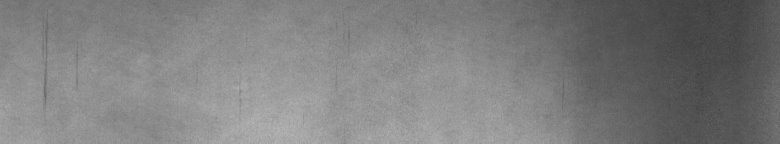ka: (41, 23, 78, 104)
